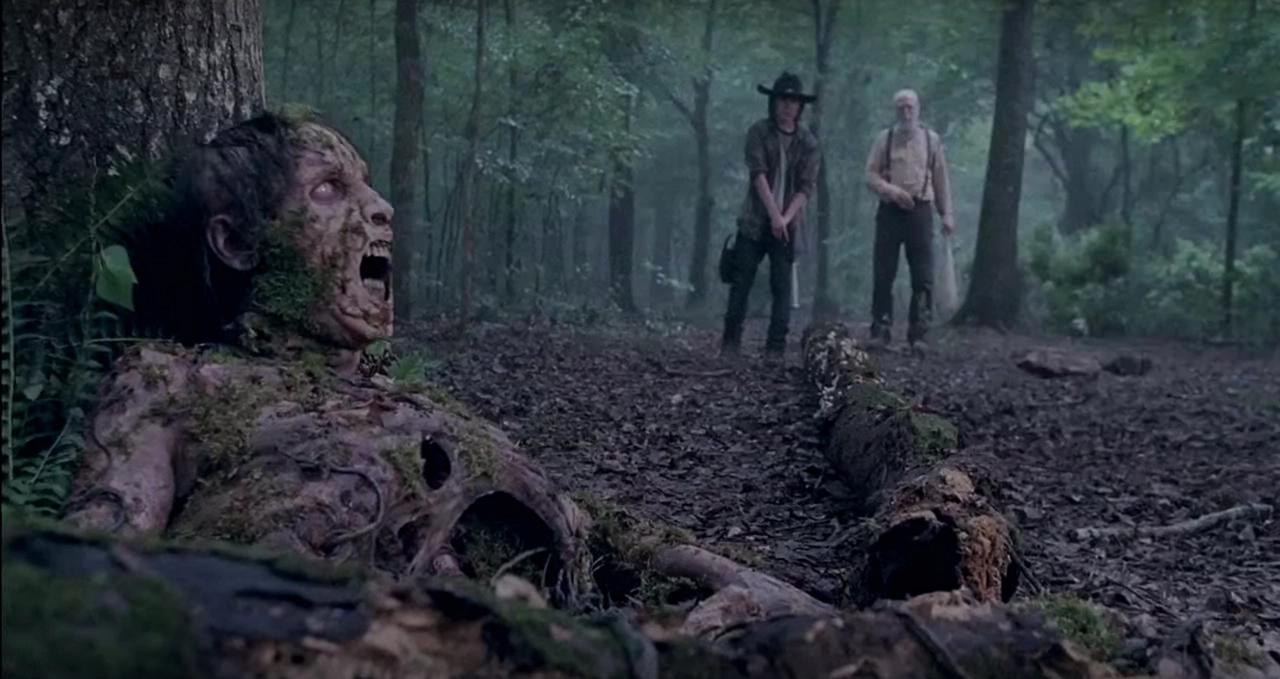Zombie: (177, 111, 443, 362)
